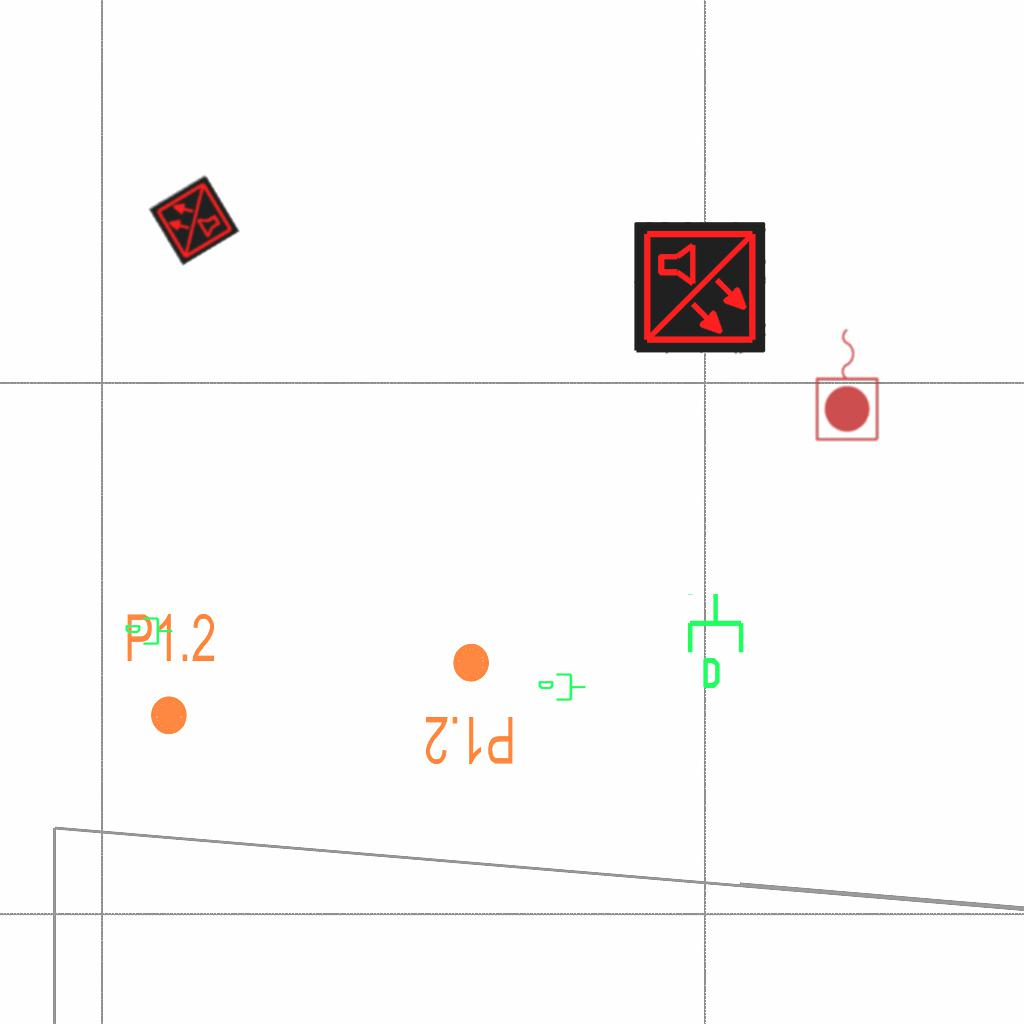Datenanschluss_einfach: (683, 591, 752, 691), (537, 671, 587, 705), (124, 615, 174, 649)
Downlight_LED_Einbauleuchten_Flur: (124, 610, 217, 738), (423, 640, 516, 768)
OKW_Multisensormelder_(Kombination_optischer_Rauch-Kahlenmonoxid_Waerme-Melder): (634, 222, 766, 354), (148, 174, 240, 266)
Zugtaster: (812, 323, 884, 445)
